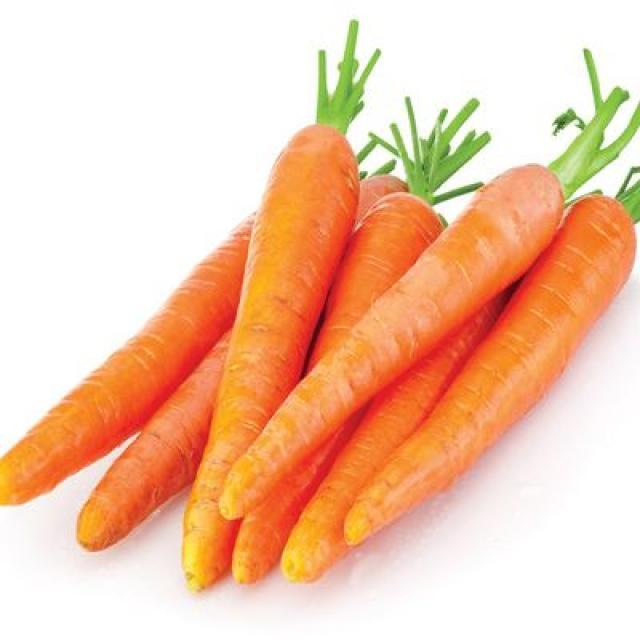carrot: (220, 150, 566, 523), (345, 192, 638, 551), (179, 120, 363, 602)
